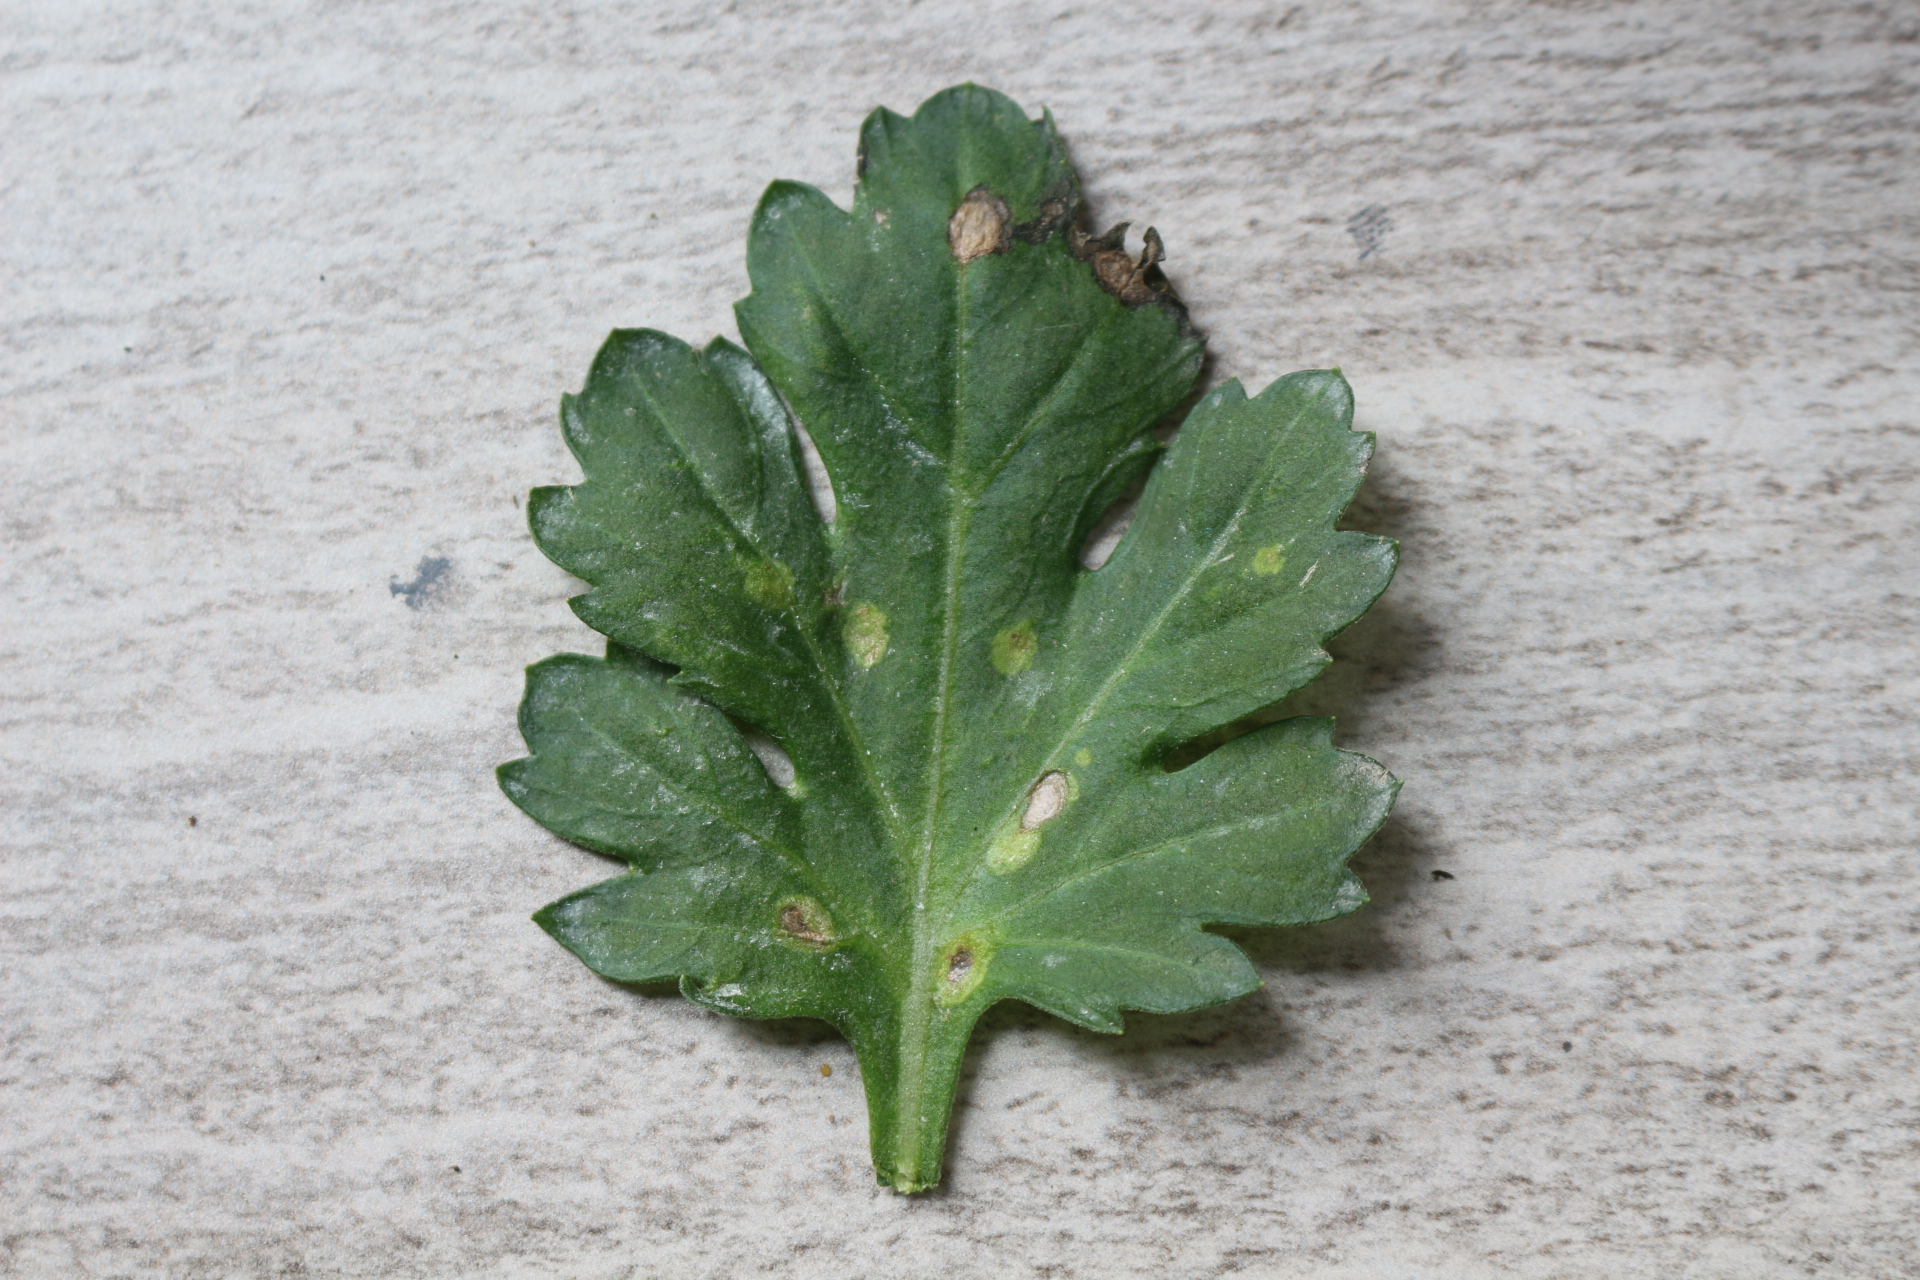namsung: (763, 891, 849, 954), (829, 600, 897, 670), (981, 614, 1046, 686), (933, 927, 991, 1003), (981, 821, 1053, 873), (741, 559, 800, 611), (1241, 539, 1294, 583)
